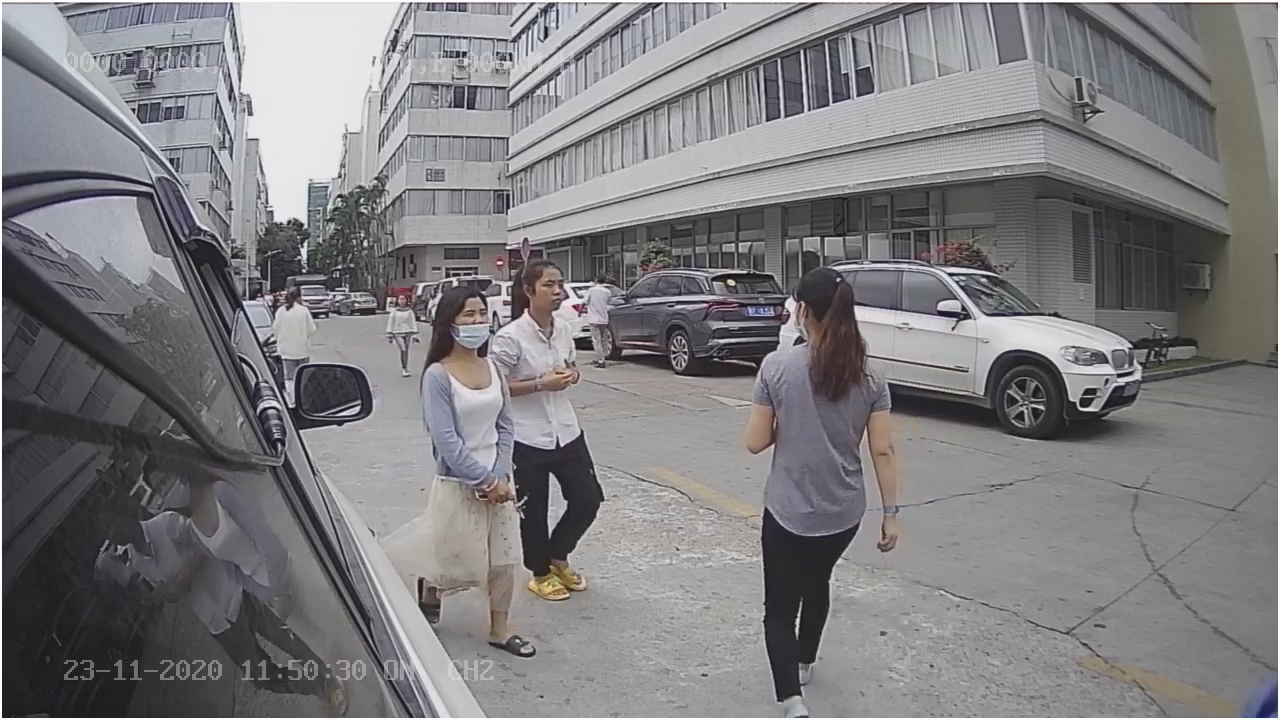person: (739, 261, 899, 715), (412, 283, 533, 520)
